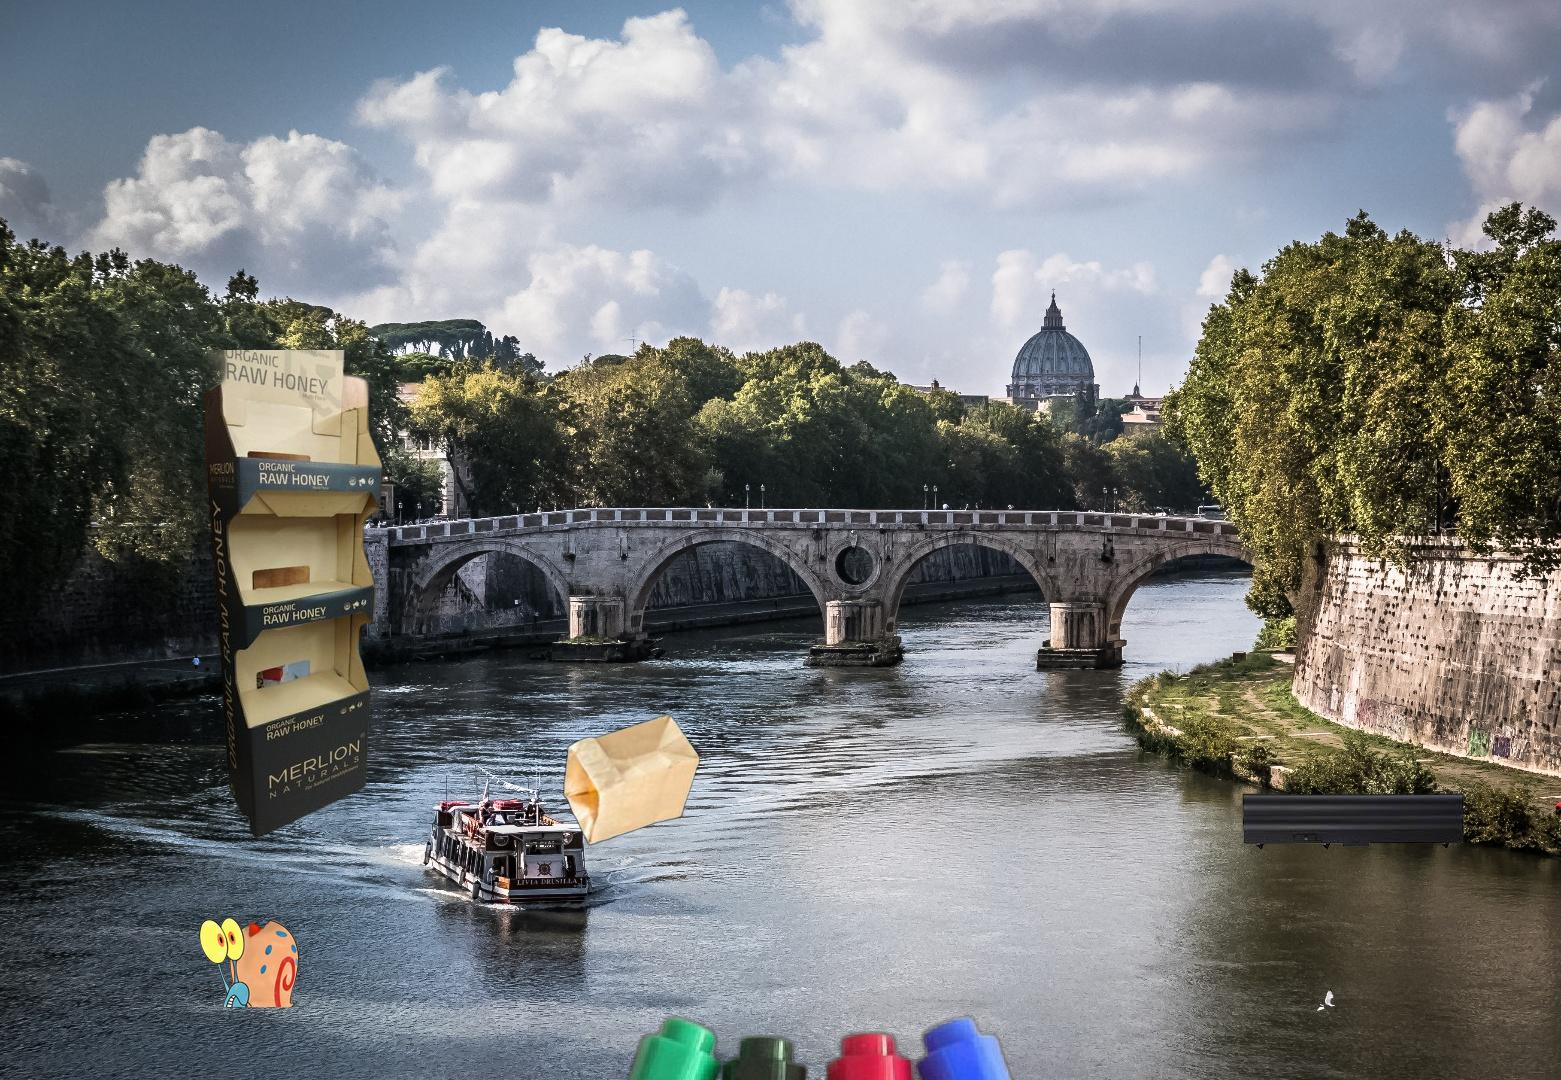battery: (1240, 790, 1464, 853)
paper-bag: (561, 709, 701, 849)
penholder: (406, 1011, 1226, 1080), (94, 903, 304, 1006)
trashbox-cardboard: (200, 350, 386, 841), (1428, 963, 1561, 1080)
